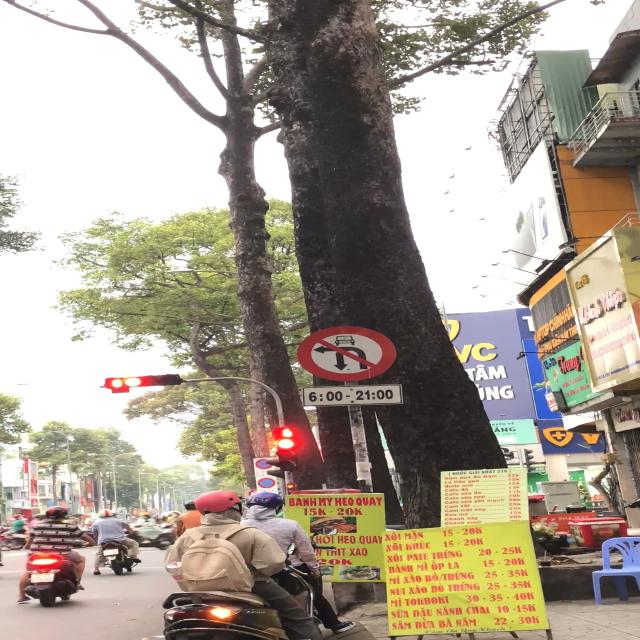Bien bao cam oto re trai va quay dau xe: (294, 324, 398, 384)
